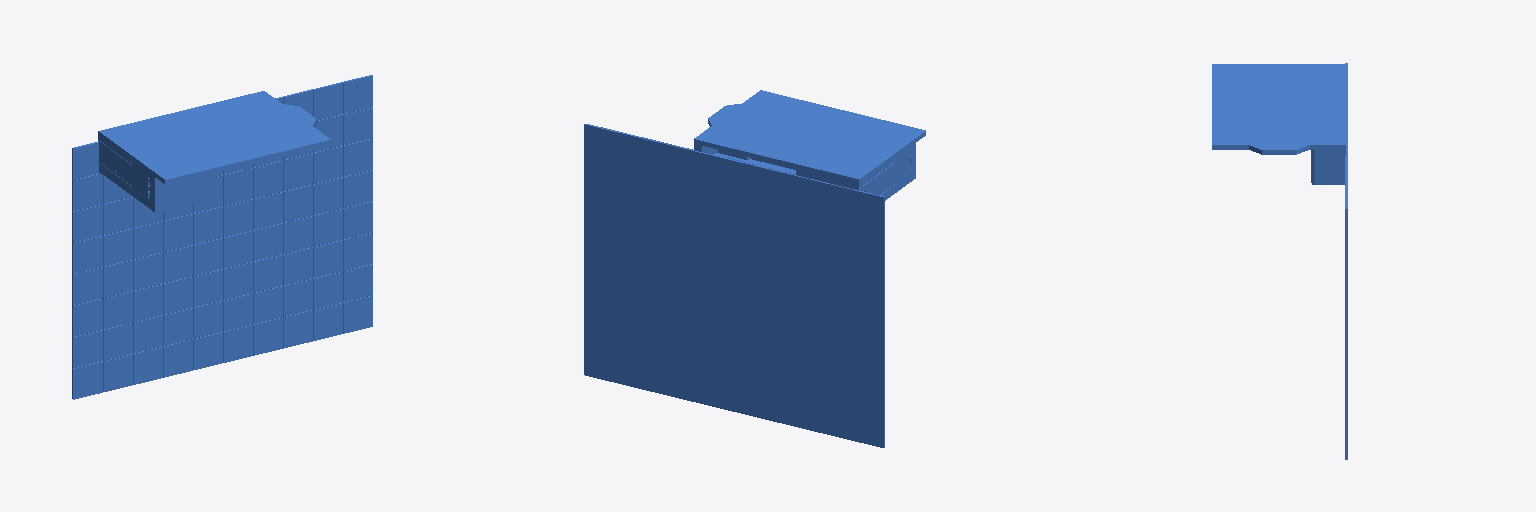
Rendered from kuangjia2.obj.
3 views of the same model, side by side, from view 1: azimuth 30°, elevation 25°; view 2: azimuth 150°, elevation 25°; view 3: azimuth 270°, elevation 25° (orthographic).
Visible parts, largest first — view 1: Layer_0; view 2: Layer_0; view 3: Layer_0.
Boxes of the visible parts, <box> form: Layer_0: <box>72,75,372,399</box>; Layer_0: <box>584,90,925,447</box>; Layer_0: <box>1212,63,1347,459</box>.
Size of the model in its own units: 10000 by 8357 by 3920.